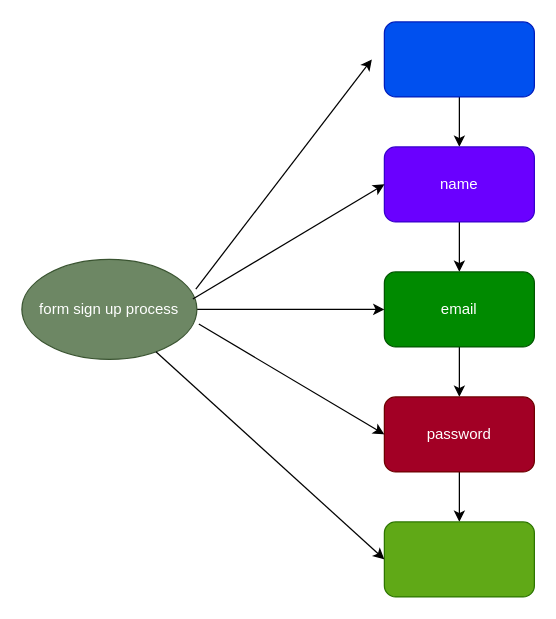
The diagram is 556 pixels wide and 619 high, and some of its shapes have lost their labels. Here are the shapes that lost their labels. From the top down, the box of each, then its label:
(383, 21, 534, 97): sign up app
(383, 521, 534, 597): sign up
